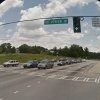crosswalk: (20, 70, 100, 83)
